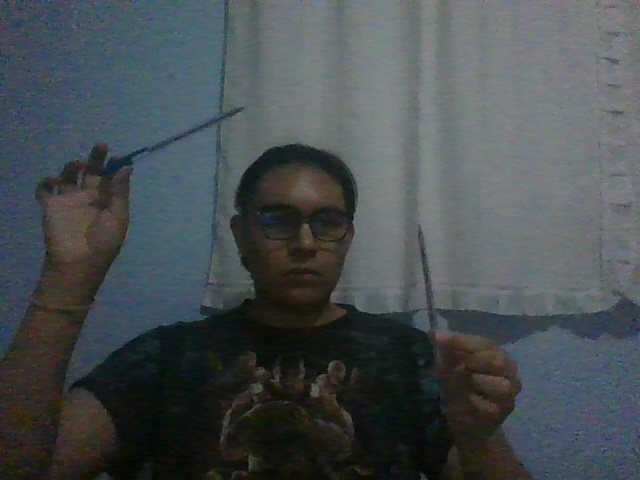pluma: (97, 105, 246, 177), (416, 222, 445, 377)
